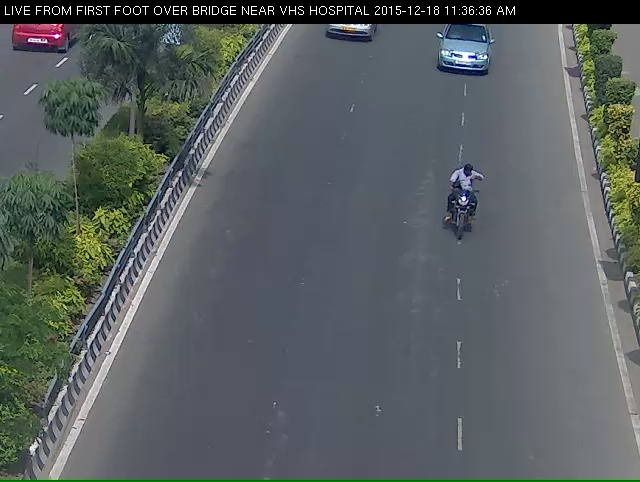Car: (427, 19, 511, 92), (311, 21, 381, 55)
Person: (444, 169, 485, 268)
